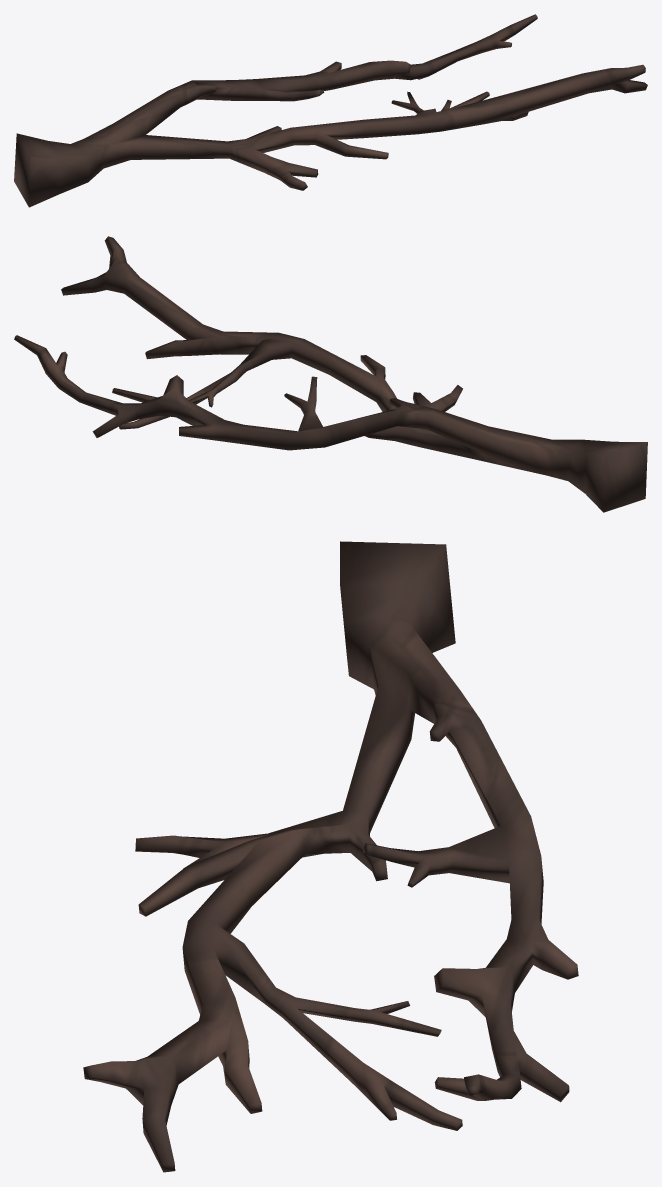
The model's file is Floor Branch 06.fbx.
3 renders of one model, top to bottom at view 1: azimuth 30°, elevation 25°; view 2: azimuth 150°, elevation 25°; view 3: azimuth 270°, elevation 25°, orthographic. The views are drawn at different scales.
Parts seen in each view (by area): view 1: Floor_Branch_06_LOD0; view 2: Floor_Branch_06_LOD0; view 3: Floor_Branch_06_LOD0.
Boxes of the visible parts, x1,y1,x2,y2 form: Floor_Branch_06_LOD0: (14,14,647,207); Floor_Branch_06_LOD0: (14,236,647,512); Floor_Branch_06_LOD0: (83,541,578,1172).
Size of what is drawn, in the model's own units: 340 by 48.18 by 127.
